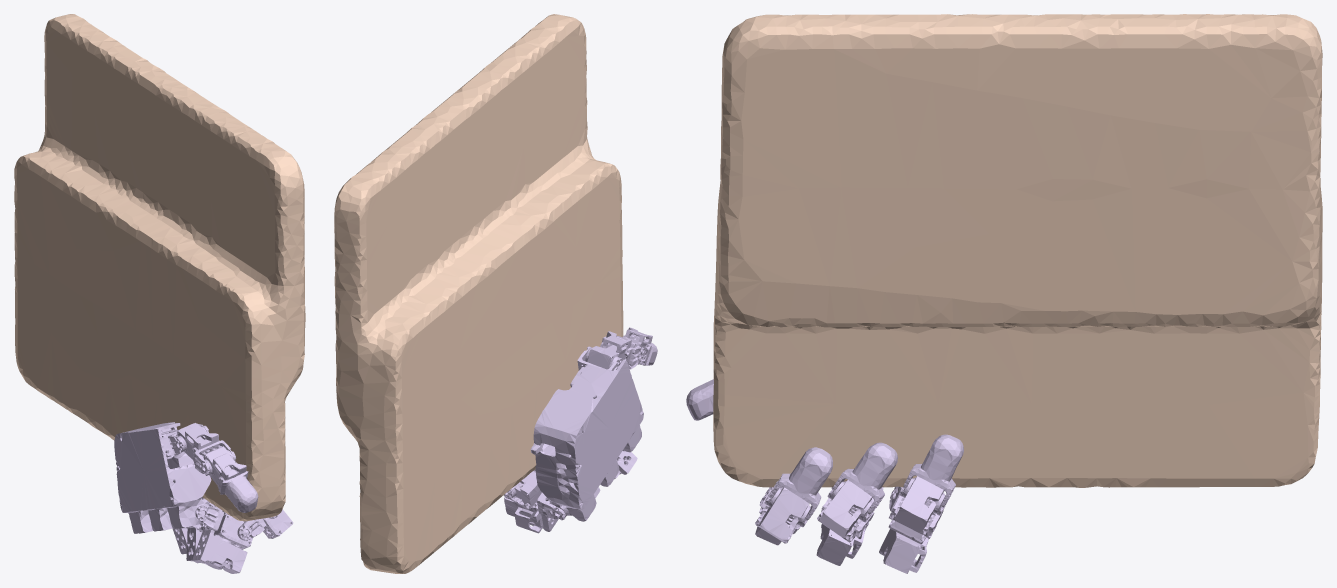
The picture shows the model from 3 angles, left to right: view 1: azimuth 30°, elevation 25°; view 2: azimuth 150°, elevation 25°; view 3: azimuth 270°, elevation 25°; orthographic projection. The views are drawn at different scales.
Visible parts, largest first — view 1: world, LEAP_hand; view 2: world, LEAP_hand; view 3: world, LEAP_hand.
Part boxes in pixels (box(x1,y1,x2,y2)): world: box(14, 14, 305, 521); LEAP_hand: box(114, 422, 293, 573); world: box(334, 14, 623, 573); LEAP_hand: box(503, 327, 657, 533); world: box(713, 14, 1322, 487); LEAP_hand: box(686, 379, 963, 573).
Bounding box in the file's own units: 0.1331 × 0.473 × 0.4791.
